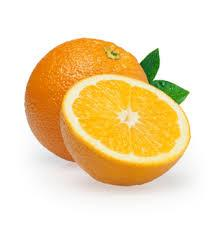orange: (57, 72, 189, 186), (12, 33, 152, 137)
